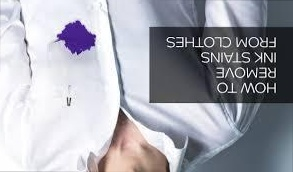ink: (60, 23, 94, 53)
